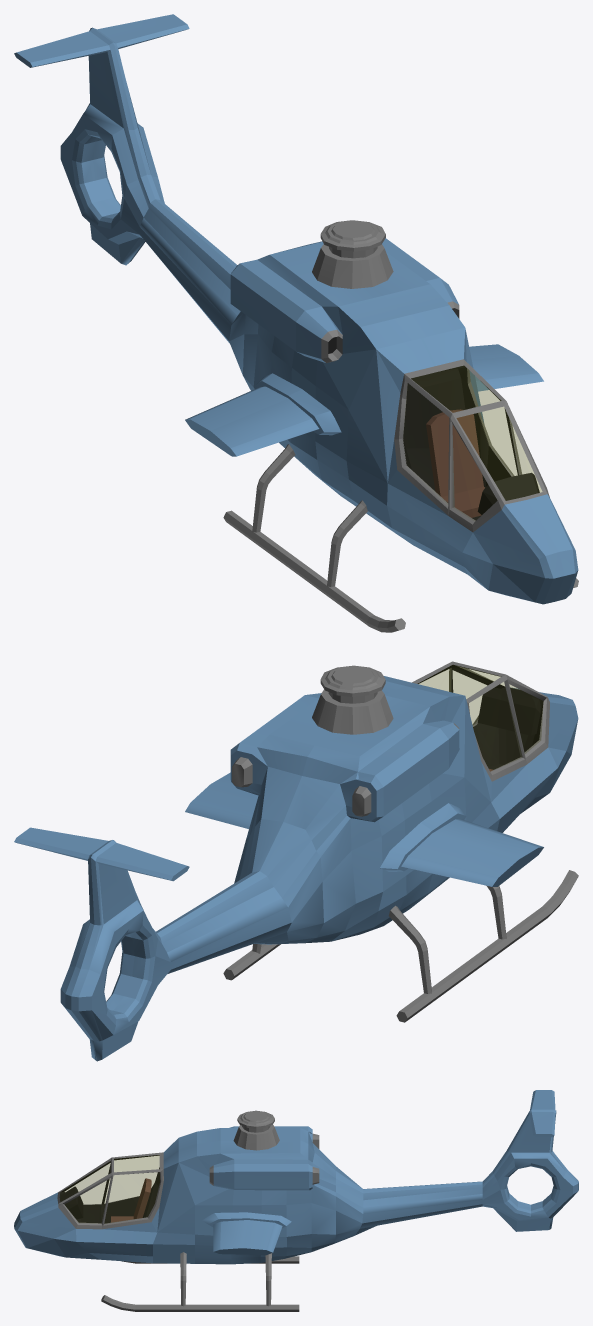
The model's file is aircraft_10.glb.
The picture shows the model from 3 angles, top to bottom: view 1: azimuth 30°, elevation 25°; view 2: azimuth 150°, elevation 25°; view 3: azimuth 270°, elevation 25°; orthographic projection. The views are drawn at different scales.
Visible parts, largest first — view 1: Fuselage, Skids, seat, RotorShaft, instrument panel; view 2: Fuselage, Skids, instrument panel, RotorShaft; view 3: Fuselage, Skids, RotorShaft, seat, instrument panel.
Part boxes in pixels (box(x1,y1,x2,y2)): Fuselage: box(14, 14, 578, 604); Skids: box(223, 444, 578, 632); seat: box(426, 409, 484, 517); RotorShaft: box(320, 220, 385, 258); instrument panel: box(477, 472, 539, 514); Fuselage: box(14, 661, 578, 1061); Skids: box(223, 870, 578, 1022); instrument panel: box(477, 687, 540, 735); RotorShaft: box(320, 665, 385, 703); Fuselage: box(14, 1090, 578, 1264); Skids: box(101, 1252, 299, 1311); RotorShaft: box(237, 1110, 274, 1132); seat: box(111, 1178, 151, 1222); instrument panel: box(60, 1186, 83, 1219).
Size of the model in its own units: 3.61 by 3.46 by 10.01.
